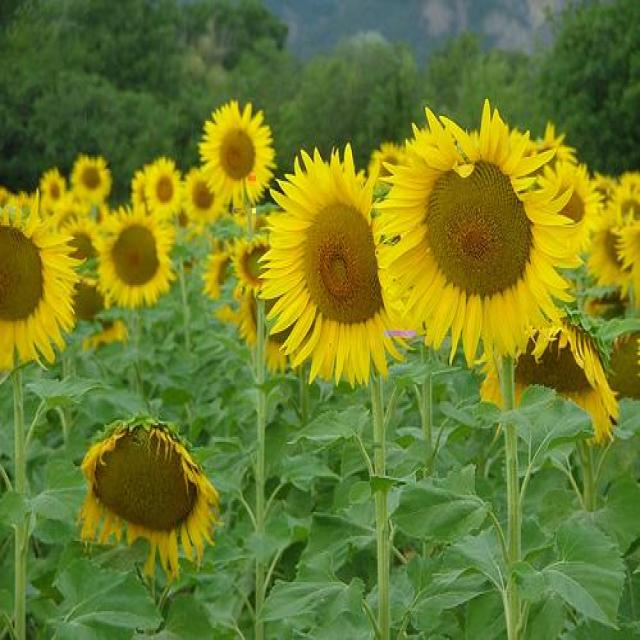sunflower: (377, 105, 591, 351), (267, 149, 413, 389), (83, 422, 215, 566), (0, 188, 76, 382), (201, 102, 274, 206), (96, 211, 174, 301), (141, 160, 184, 210), (73, 153, 107, 200)
